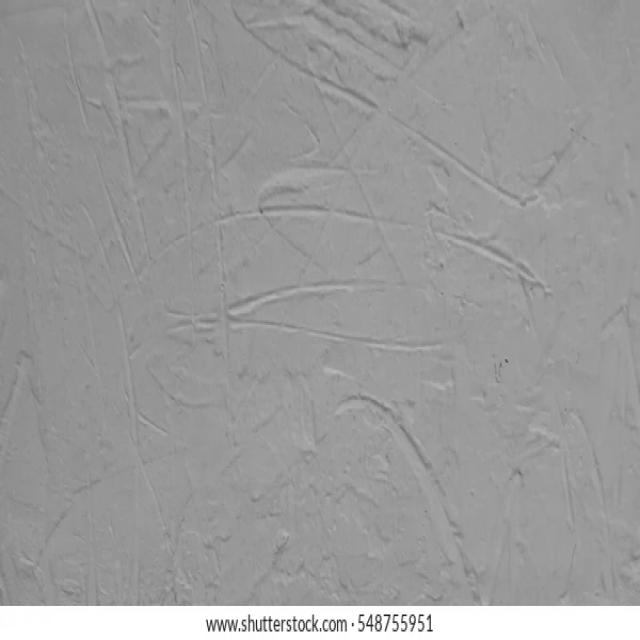rough and patchy surface: (5, 0, 637, 601)
